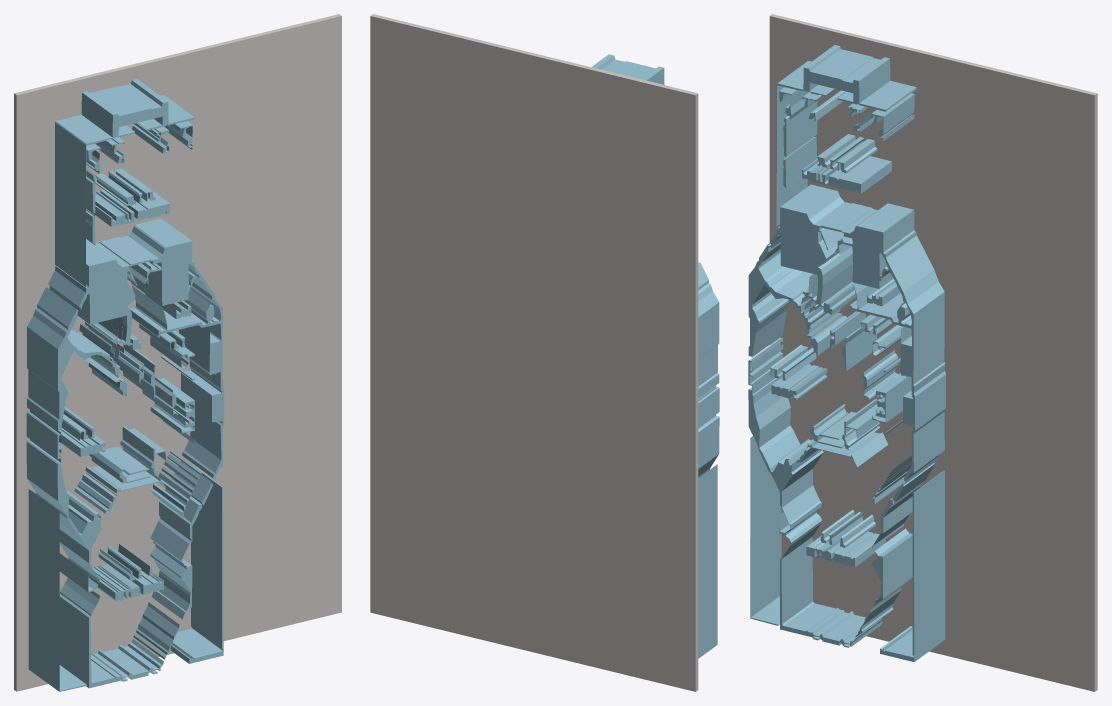
3 renders of one model, left to right at view 1: azimuth 30°, elevation 25°; view 2: azimuth 150°, elevation 25°; view 3: azimuth 330°, elevation 25°, orthographic.
Visible parts, largest first — view 1: world; view 2: world; view 3: world.
Boxes of the visible parts, bbox=[...] form: world: bbox=[14, 14, 341, 691]; world: bbox=[370, 14, 719, 691]; world: bbox=[748, 14, 1097, 691].
Size of the model in its own units: 10.23 by 17.93 by 1.84.
